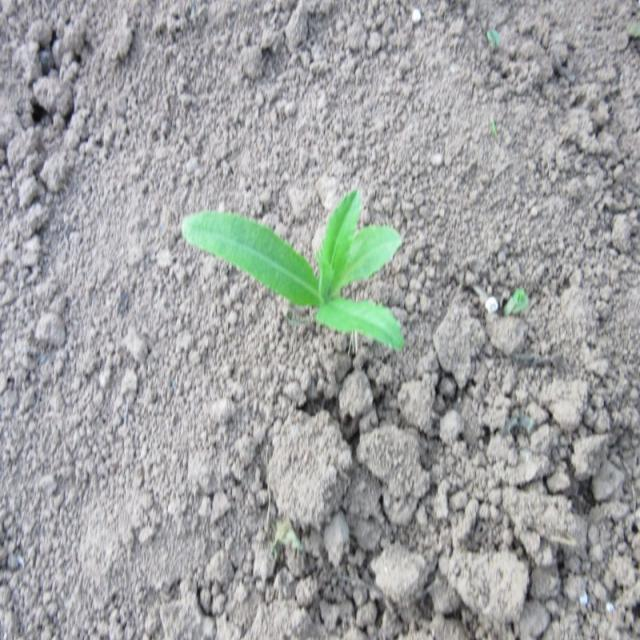cs: (175, 182, 407, 370)
